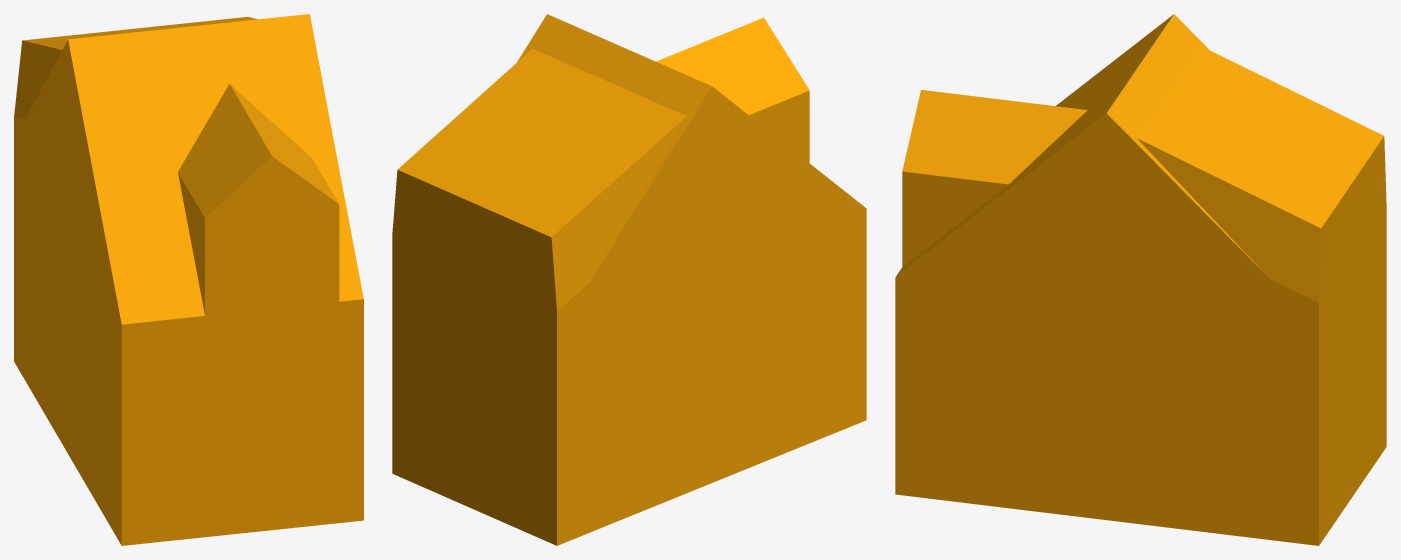
The model's file is DEHB01ALj0003AQw.gltf.
3 views of the same model, side by side, from view 1: azimuth 30°, elevation 25°; view 2: azimuth 150°, elevation 25°; view 3: azimuth 270°, elevation 25° (orthographic). The views are drawn at different scales.
Parts seen in each view (by area): view 1: Z_UP; view 2: Z_UP; view 3: Z_UP.
Part boxes in pixels (x1,y1,x2,y2): Z_UP: [14, 14, 363, 545]; Z_UP: [392, 14, 866, 545]; Z_UP: [895, 14, 1386, 545].
Bounding box in the file's own units: 6.57 × 8.26 × 9.04.
